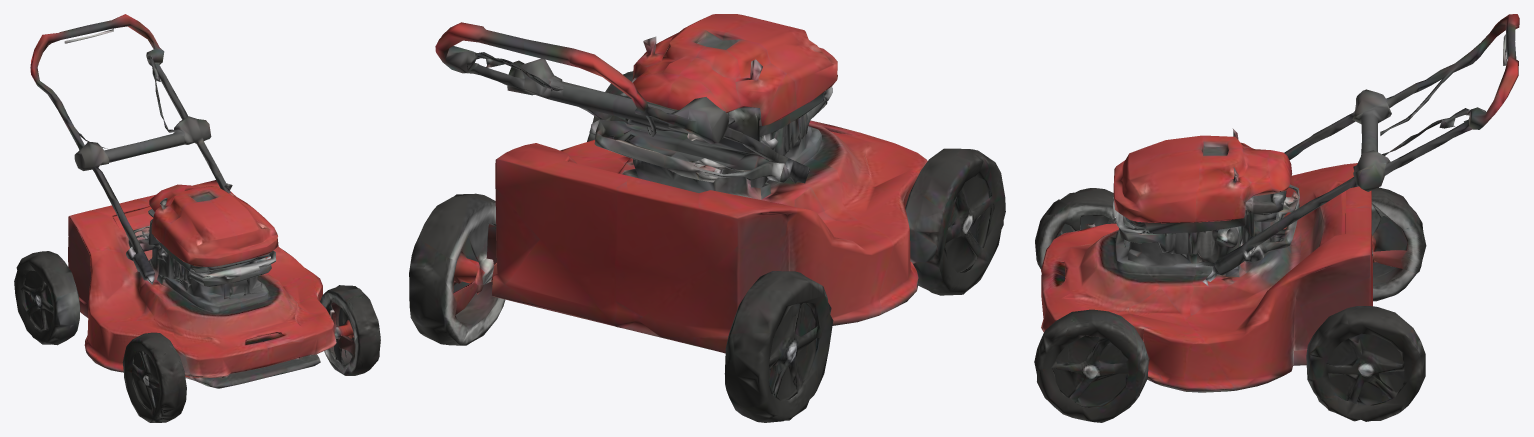
Rendered from mower.glb.
The picture shows the model from 3 angles, left to right: view 1: azimuth 30°, elevation 25°; view 2: azimuth 150°, elevation 25°; view 3: azimuth 270°, elevation 25°; orthographic projection. The views are drawn at different scales.
Size of the model in its own units: 0.6808 by 0.726 by 0.9985.
Materials: 1 (1 with a texture image).
